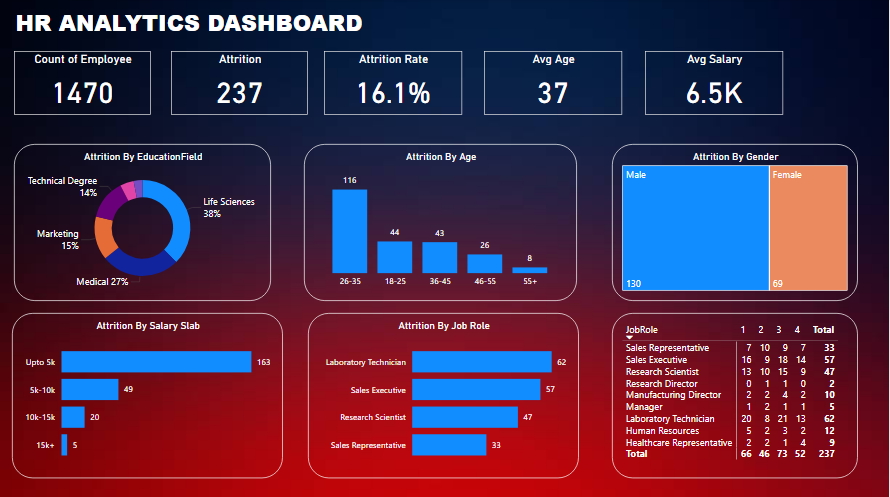

What the dashboard file says about the page in this screenshot:
{"tool":"powerbi","page":{"name":"HR Analytics","canvas":[1280,720],"ordinal":0},"visuals":[{"type":"card","title":"Count of Employee","fields":{"Values":["CountNonNull(HR_Analytics.EmpID)"]},"box":[20.2,74.9,197.3,92.2],"z":0},{"type":"card","title":"Avg Age","fields":{"Values":["Avg(HR_Analytics.Age)"]},"box":[697,74.9,198.7,92.2],"z":1000},{"type":"card","title":"Attrition","fields":{"Values":["Sum(HR_Analytics.AttritionCount)"]},"box":[246.2,74.9,197.3,92.2],"z":2000},{"type":"card","title":"Attrition Rate","fields":{"Values":["HR_Analytics.AttritionRate"]},"box":[466.6,74.9,198.7,92.2],"z":3000},{"type":"card","title":"Avg Salary","fields":{"Values":["Avg(HR_Analytics.MonthlyIncome)"]},"box":[928.8,74.9,198.7,92.2],"z":4000},{"type":"donutChart","title":"Attrition By EducationField ","fields":{"Category":["HR_Analytics.EducationField"],"Y":["Sum(HR_Analytics.AttritionCount)"]},"box":[20.2,208.8,370.1,226.1],"z":5000},{"type":"columnChart","title":"Attrition By Age","fields":{"Category":["HR_Analytics.AgeGroup"],"Y":["Sum(HR_Analytics.AttritionCount)"]},"box":[437.8,208.8,393.1,226.1],"z":6000},{"type":"pivotTable","fields":{"Rows":["HR_Analytics.JobRole"],"Columns":["HR_Analytics.JobSatisfaction"],"Values":["Sum(HR_Analytics.AttritionCount)"]},"box":[881.3,452.2,354.2,237.6],"z":7000},{"type":"barChart","title":"Attrition By Salary Slab","fields":{"Category":["HR_Analytics.SalarySlab"],"Y":["Sum(HR_Analytics.AttritionCount)"]},"box":[17.3,452.2,390.2,237.6],"z":8000},{"type":"barChart","title":"Attrition By Job Role","fields":{"Category":["HR_Analytics.JobRole"],"Y":["Sum(HR_Analytics.AttritionCount)"]},"box":[443.5,452.2,390.2,237.6],"z":9000},{"type":"treemap","title":"Attrition By Gender","fields":{"Group":["HR_Analytics.Gender"],"Values":["Sum(HR_Analytics.AttritionCount)"]},"box":[881.3,208.8,354.2,226.1],"z":10000},{"type":"textbox","box":[17.3,5.8,538.6,60.5],"z":12000}]}

Visuals, with their boxes in screenshot pixels (x1, y1, x2, y2), scaled from the page's 1280x720 canvas onto the 890x497 screenshot:
"Count of Employee" card: crop(14, 52, 151, 115)
"Avg Age" card: crop(485, 52, 623, 115)
"Attrition" card: crop(171, 52, 308, 115)
"Attrition Rate" card: crop(324, 52, 463, 115)
"Avg Salary" card: crop(646, 52, 784, 115)
"Attrition By EducationField " donutChart: crop(14, 144, 271, 300)
"Attrition By Age" columnChart: crop(304, 144, 578, 300)
pivotTable - HR_Analytics.JobRole x HR_Analytics.JobSatisfaction: crop(613, 312, 859, 476)
"Attrition By Salary Slab" barChart: crop(12, 312, 283, 476)
"Attrition By Job Role" barChart: crop(308, 312, 580, 476)
"Attrition By Gender" treemap: crop(613, 144, 859, 300)
textbox: crop(12, 4, 387, 46)
